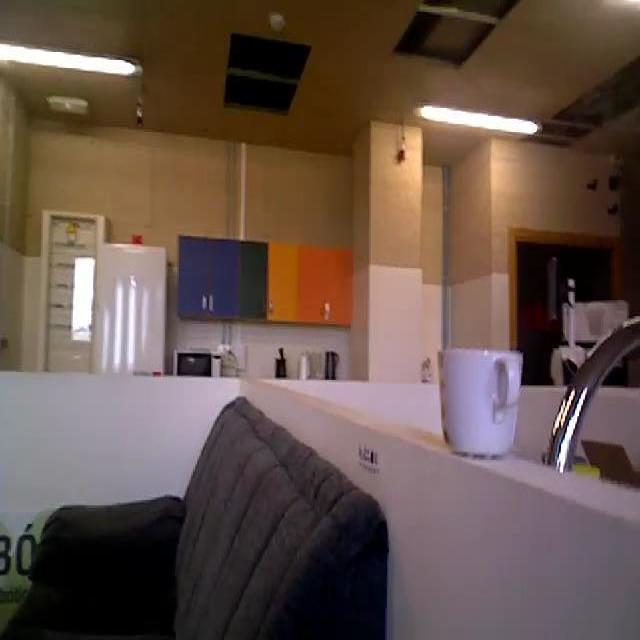cup: (432, 342, 530, 459)
